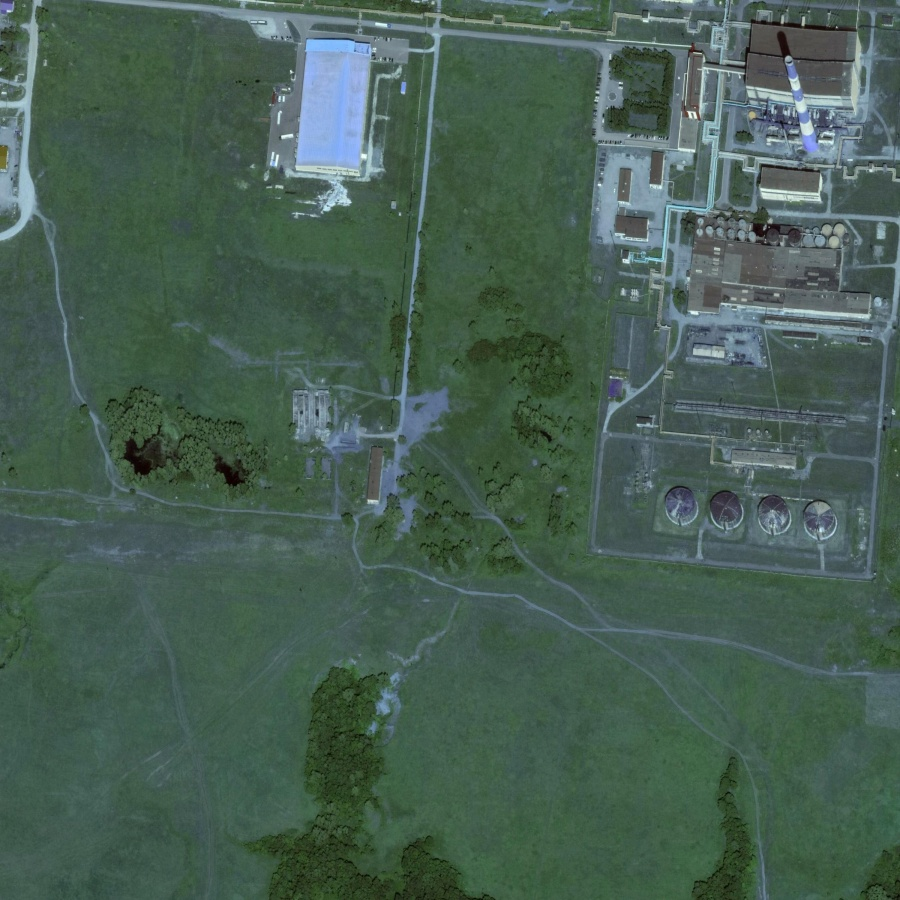PowerPlant: (658, 435, 868, 601)
